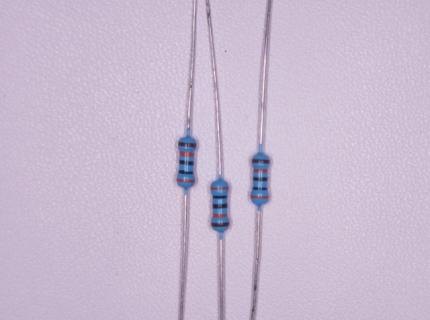Black band: (212, 203, 228, 210), (178, 169, 194, 175), (179, 160, 194, 166), (253, 176, 268, 182), (212, 195, 228, 200), (253, 187, 268, 191)
Brown band: (211, 222, 229, 228), (252, 158, 270, 164), (178, 142, 196, 148)
Orange band: (176, 178, 195, 184), (179, 151, 195, 157), (210, 186, 229, 191), (212, 213, 228, 218), (253, 168, 268, 173), (251, 195, 269, 199)
